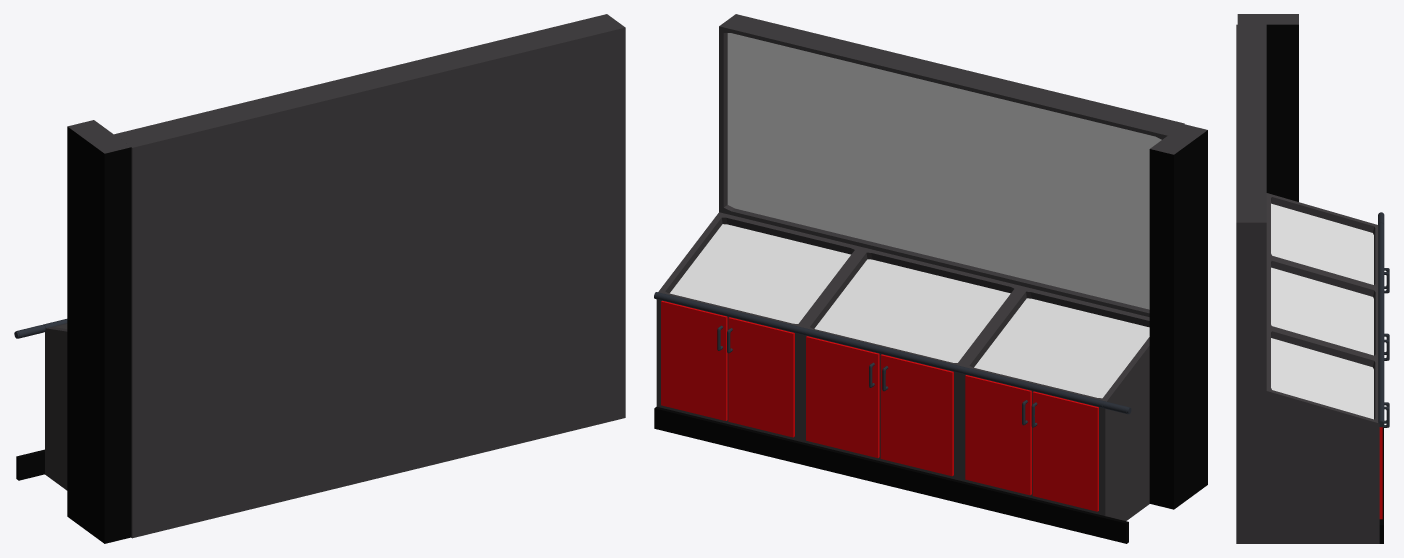
The model's file is modelo_de_armamento.fbx.
3 renders of one model, left to right at view 1: azimuth 30°, elevation 25°; view 2: azimuth 150°, elevation 25°; view 3: azimuth 270°, elevation 25°, orthographic. The views are drawn at different scales.
Parts seen in each view (by area): view 1: Cube.004; view 2: Cube.004; view 3: Cube.004.
Part boxes in pixels (x1,y1,x2,y2): Cube.004: (14,14,625,543); Cube.004: (654,14,1207,543); Cube.004: (1236,14,1389,543).
Size of the model in its own units: 1488 by 1065 by 461.
